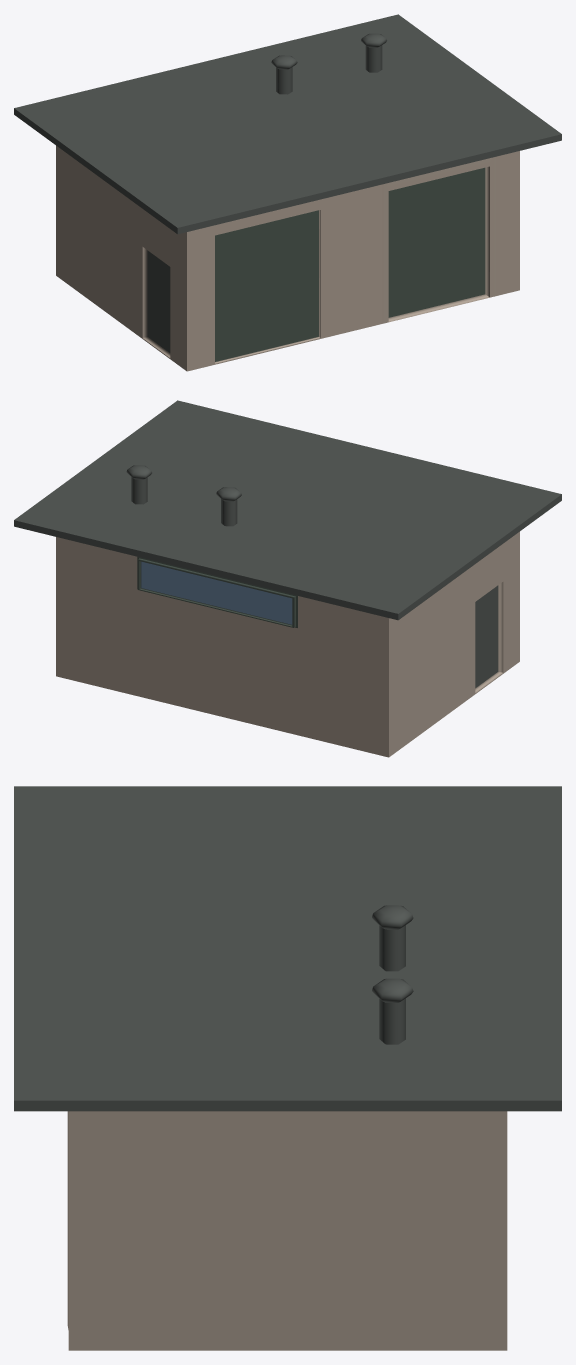
The model's file is Shed.fbx.
3 renders of one model, top to bottom at view 1: azimuth 30°, elevation 25°; view 2: azimuth 150°, elevation 25°; view 3: azimuth 270°, elevation 25°, orthographic. The views are drawn at different scales.
Visible parts, largest first — view 1: shed; view 2: shed; view 3: shed.
Part boxes in pixels (x1,y1,x2,y2): shed: (14,14,561,371); shed: (14,400,561,757); shed: (14,786,561,1350).
Bounding box in the file's own units: 7.06 × 3.44 × 5.21.
